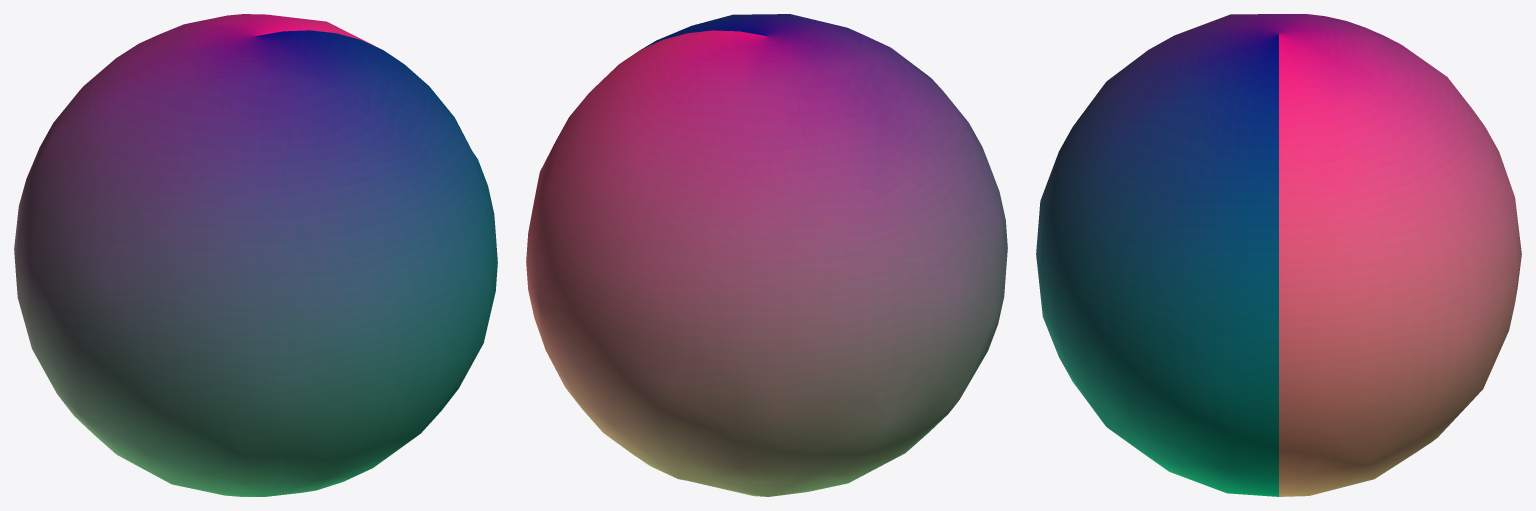
File: crate.lod1.glb
3 renders of one model, left to right at view 1: azimuth 30°, elevation 25°; view 2: azimuth 150°, elevation 25°; view 3: azimuth 270°, elevation 25°, orthographic.
Parts seen in each view (by area): view 1: gosx-dequantize; view 2: gosx-dequantize; view 3: gosx-dequantize.
Boxes of the visible parts, bbox=[...] form: gosx-dequantize: bbox=[14, 14, 497, 496]; gosx-dequantize: bbox=[526, 14, 1007, 496]; gosx-dequantize: bbox=[1036, 14, 1521, 496].
Bounding box in the file's own units: 8 × 8 × 8.
1 material, 1 textured.
